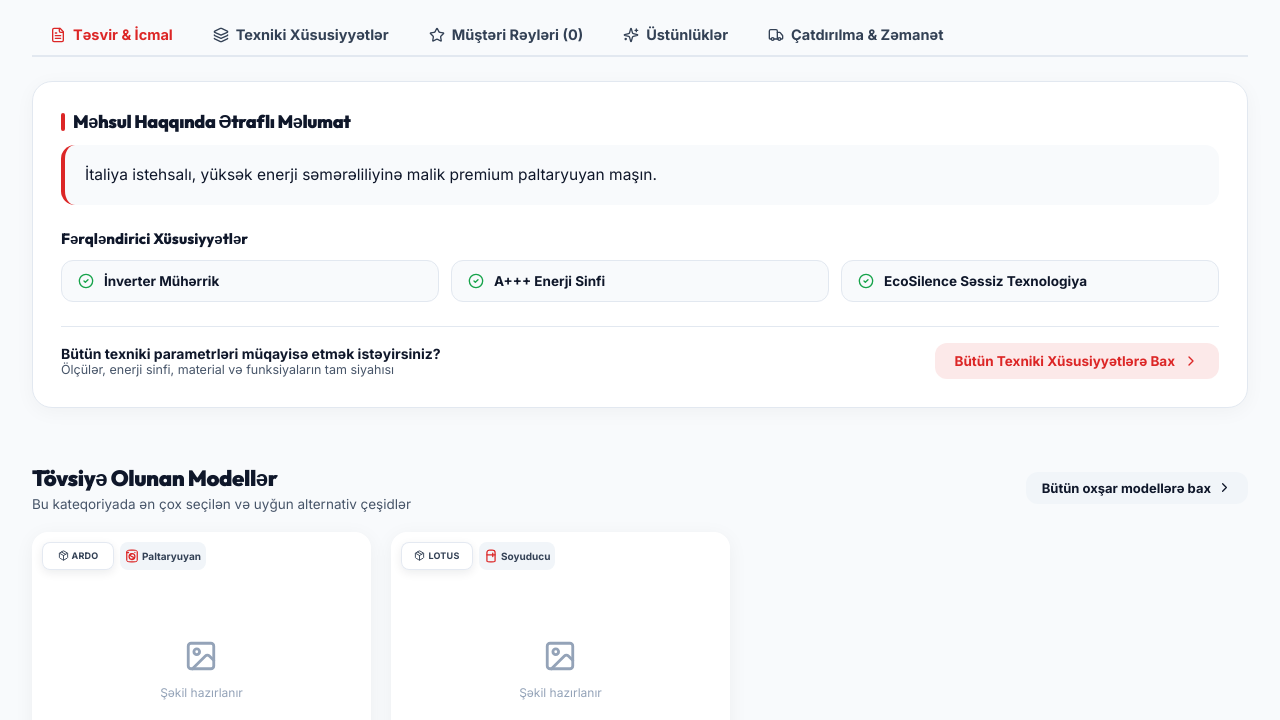
Test case: ProductDetailPage Tests (Strict Real-Data & Authenticated Reviews) › 3. Description tab opens by default, shows authentic text and allows switching to Specs
This screenshot has width=1280, height=720.
(page scrolled)
Expected: the text "Məhsul Haqqında Ətraflı Məlumat" is shown, [73,110,350,133]
Click the button "Bütün Texniki Xüsusiyyətlərə Bax".
click(1077, 361)  # box [934,343,1219,379]
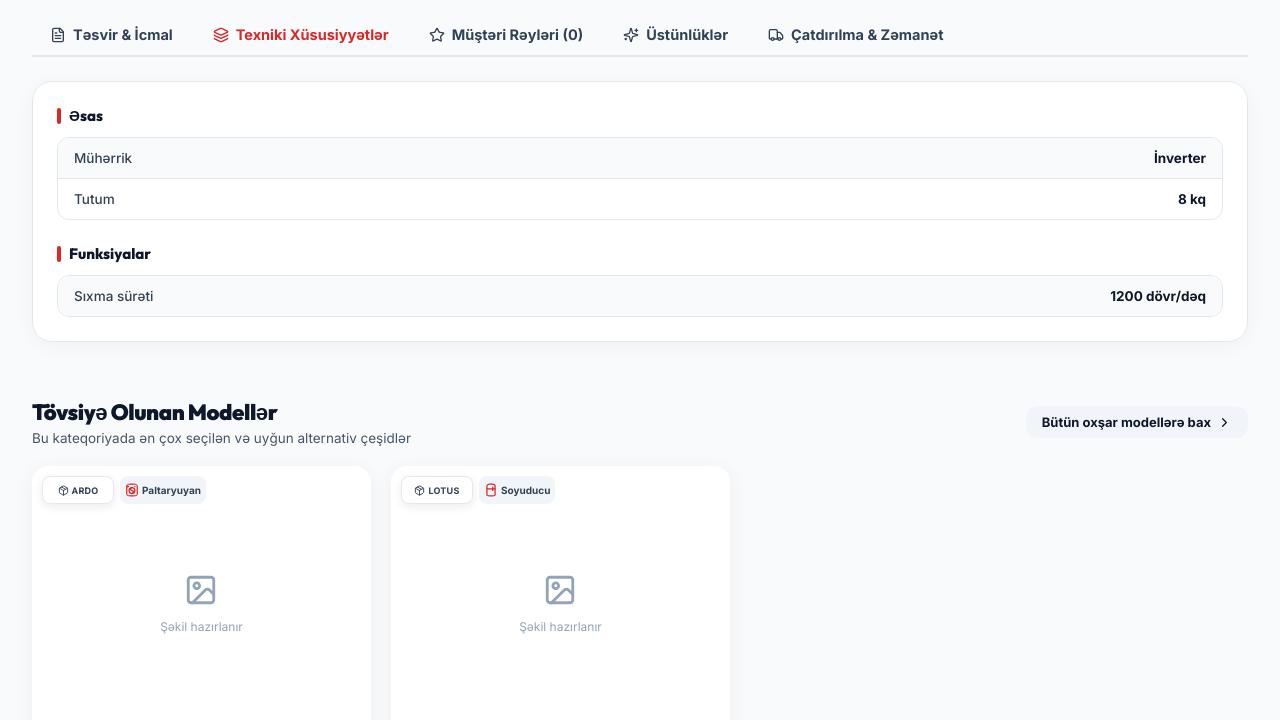
Result: the text "Əsas" is shown at [69,106,103,125]
Result: the text "1200 dövr/dəq" is shown at [1110,288,1206,304]
